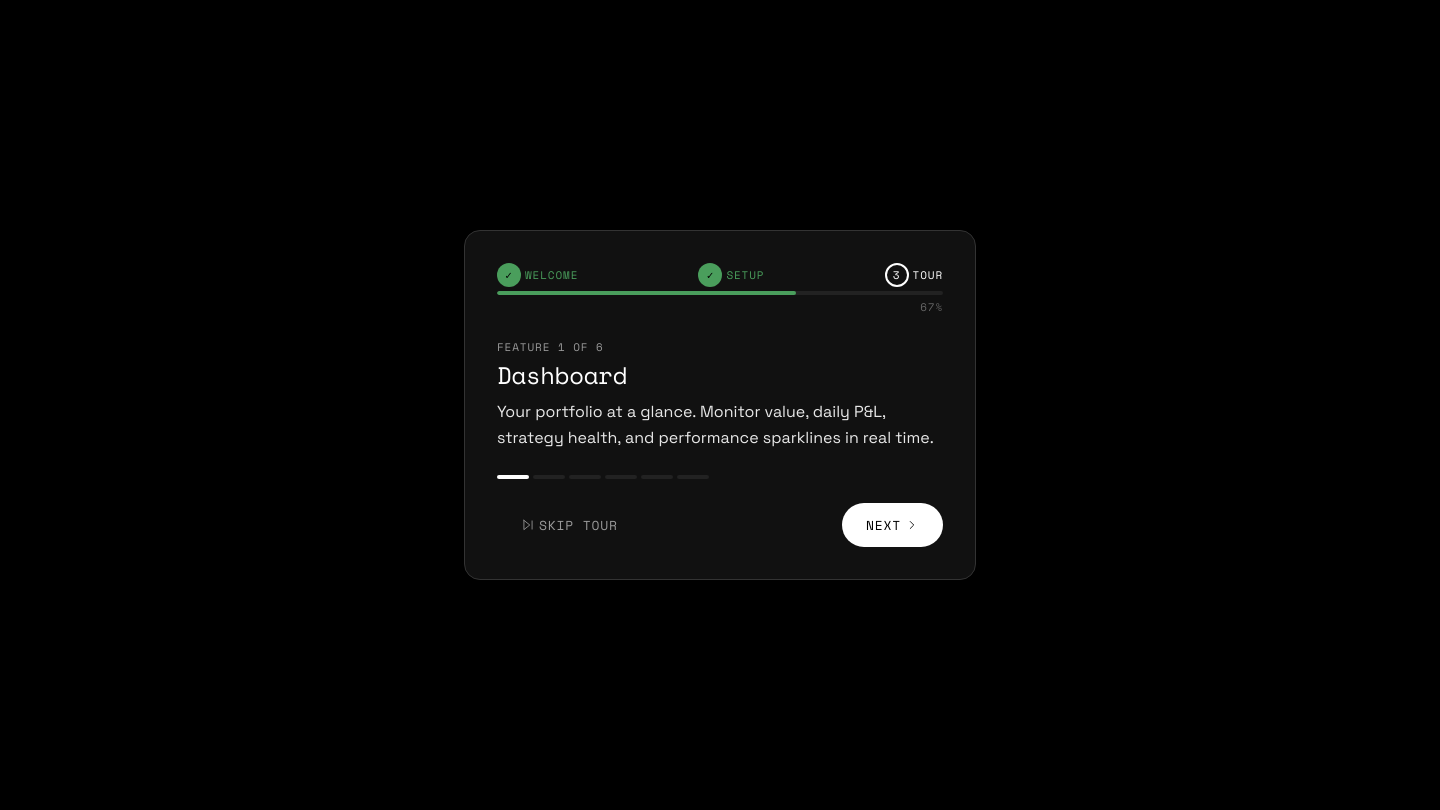
it: FeatureTour › goes back to previous feature
Click the button "NEXT" at (892, 525), box [842,503,943,547]
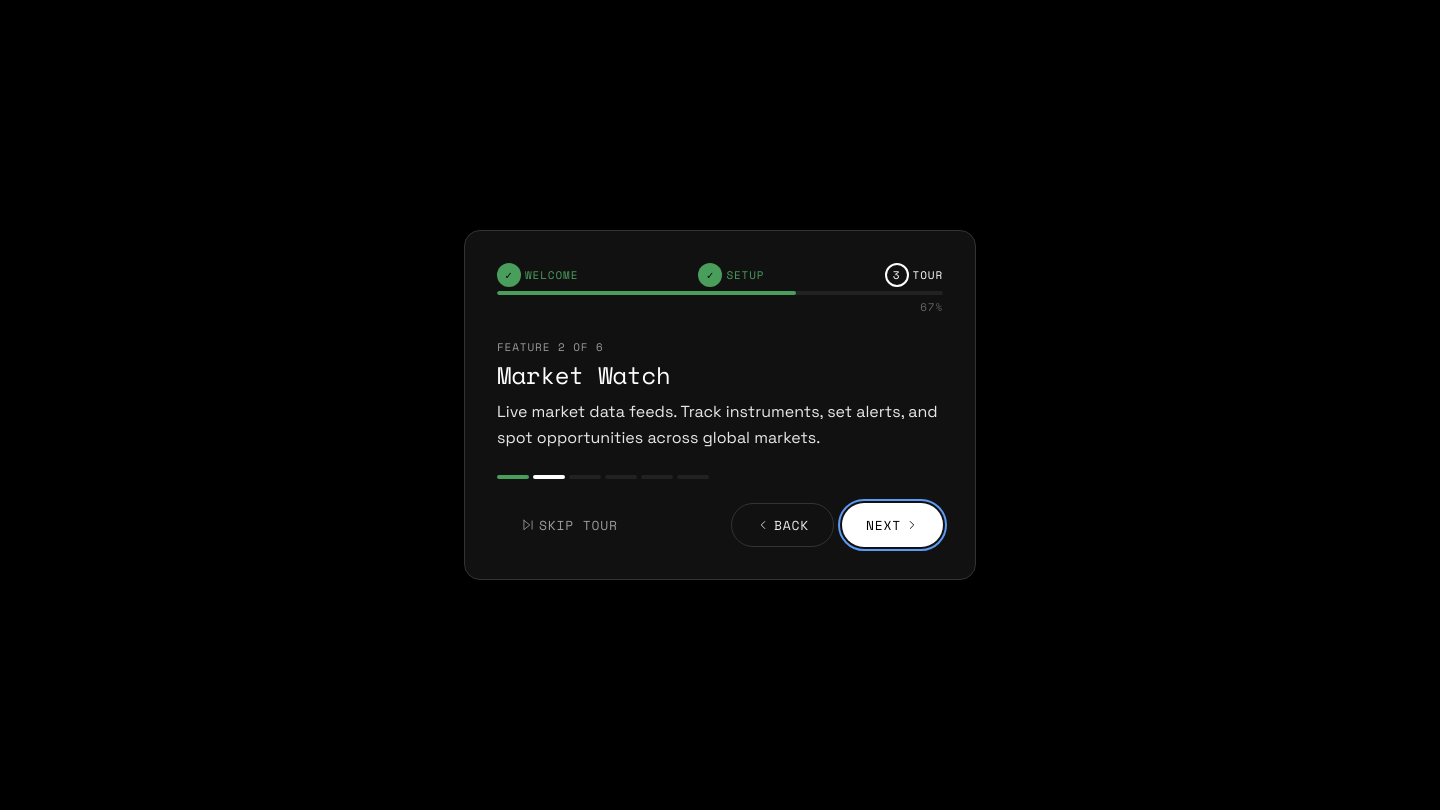
Click the button "BACK" at (783, 525), box [731,503,834,547]
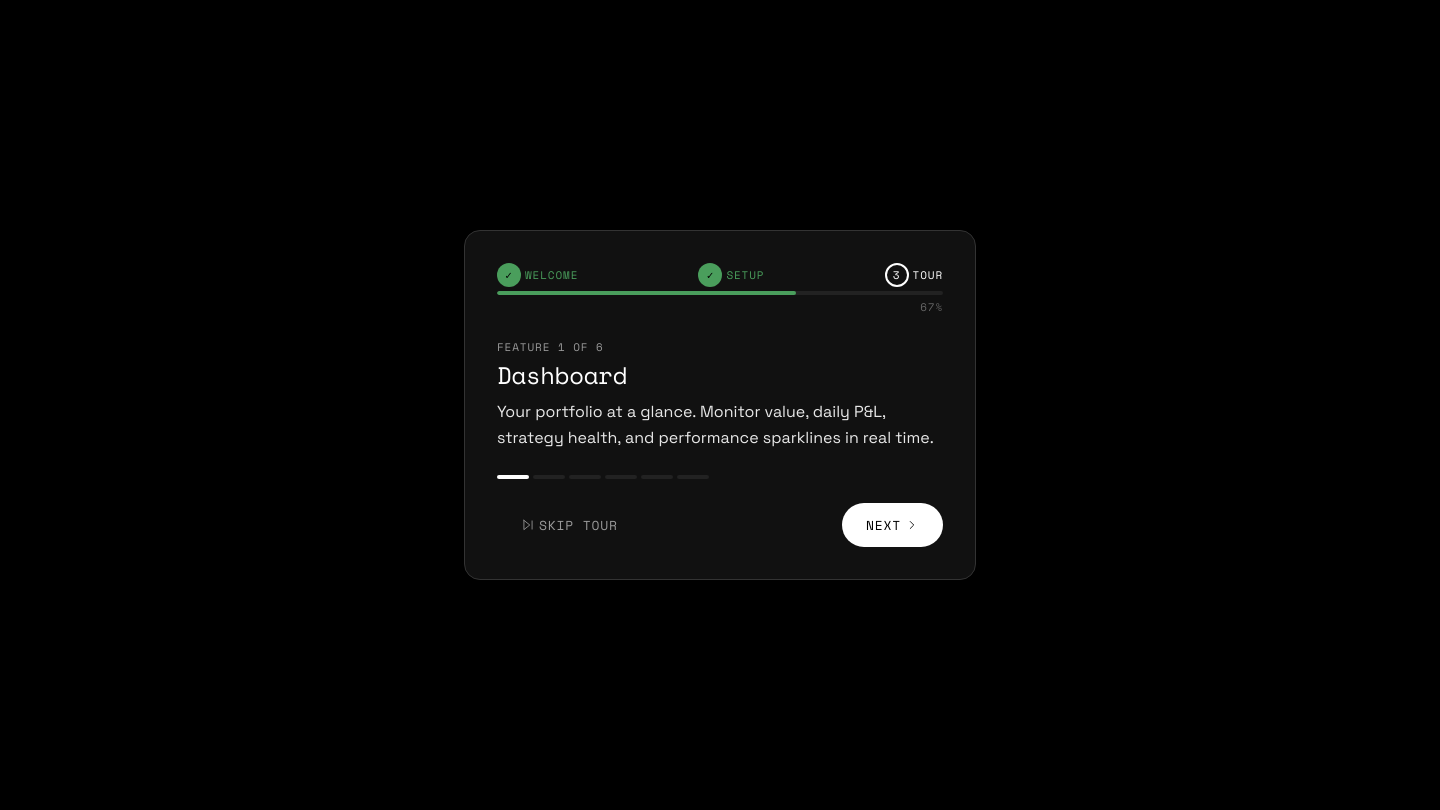
Now the text "FEATURE 1 OF 6" is shown, box [497,339,604,355]
